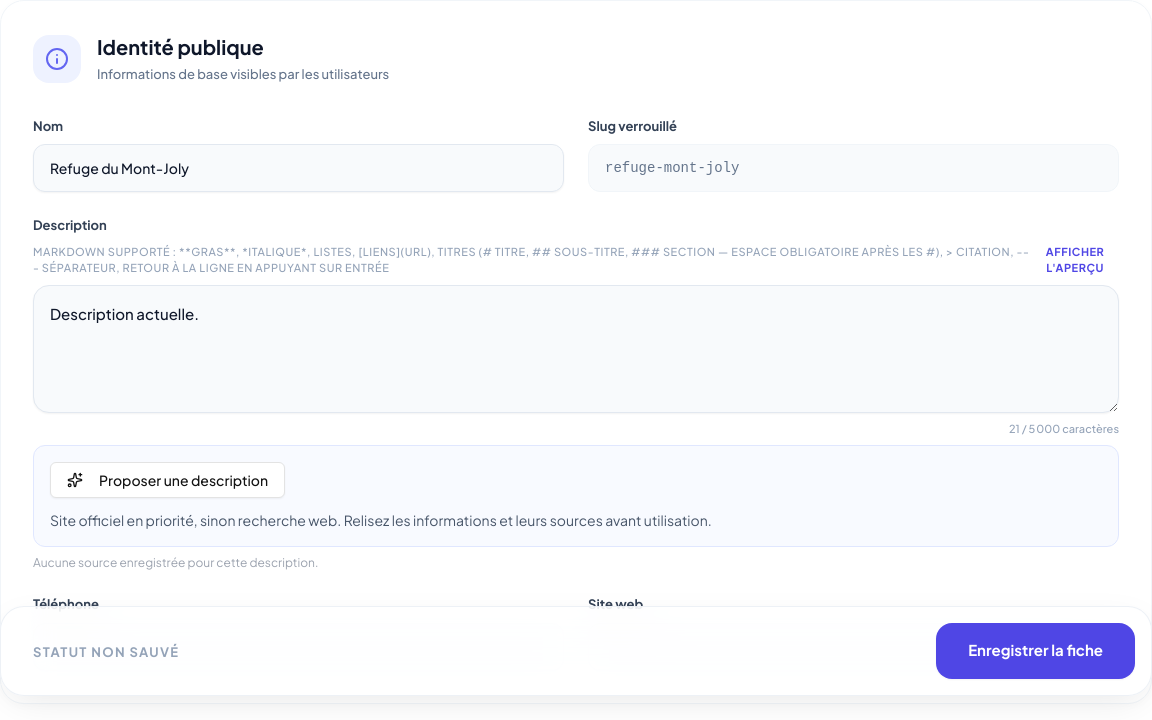
Scenario: requires saving changed identity field Nom
The width and height of the screenshot is (1152, 720).
Replace the text in the field labelled "Nom" with "Valeur modifiée" at (298, 168), box [33, 144, 564, 192]
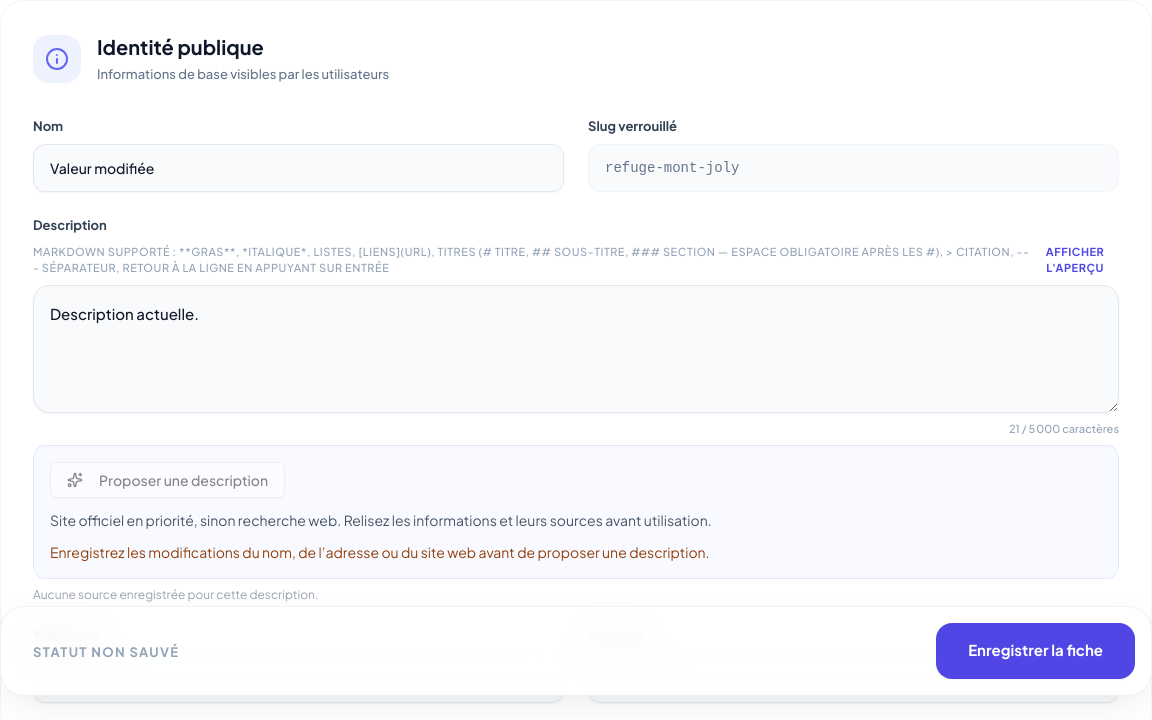
Check: the button "Proposer une description" is disabled, box [50, 462, 285, 498]
